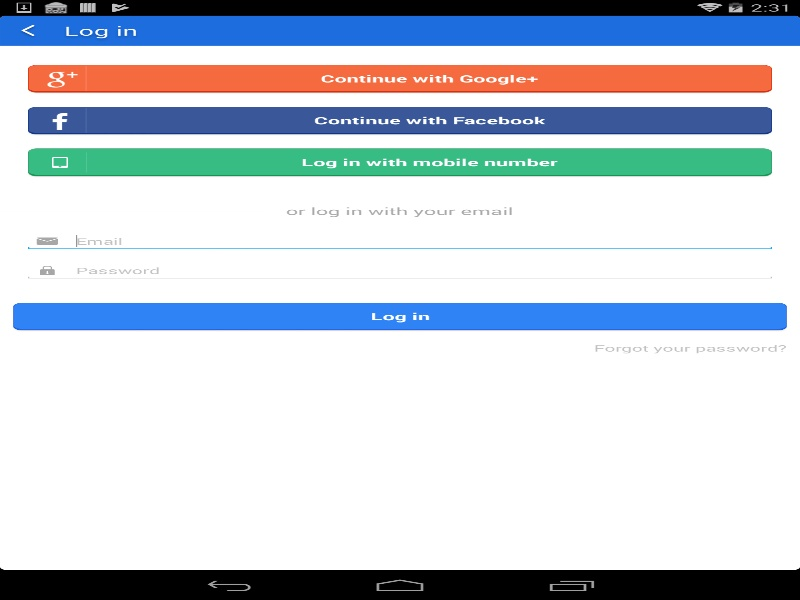Button: (86, 111, 772, 129), (86, 71, 772, 85), (86, 155, 772, 169), (0, 15, 64, 45)
Input: (28, 217, 772, 249), (28, 249, 772, 278)
